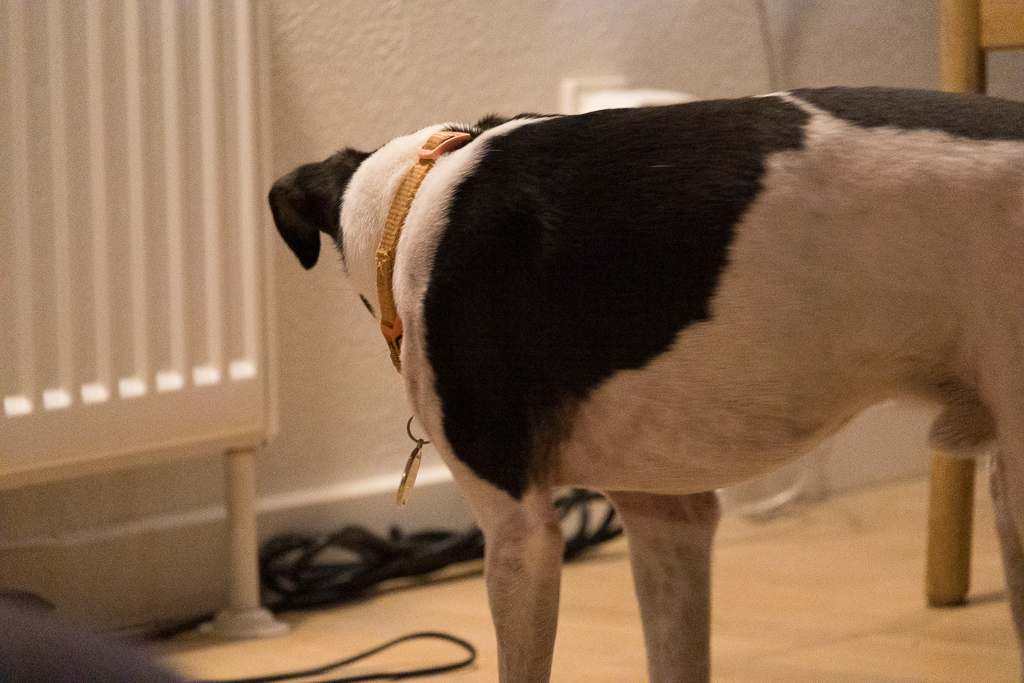Dog: (260, 75, 1024, 683)
